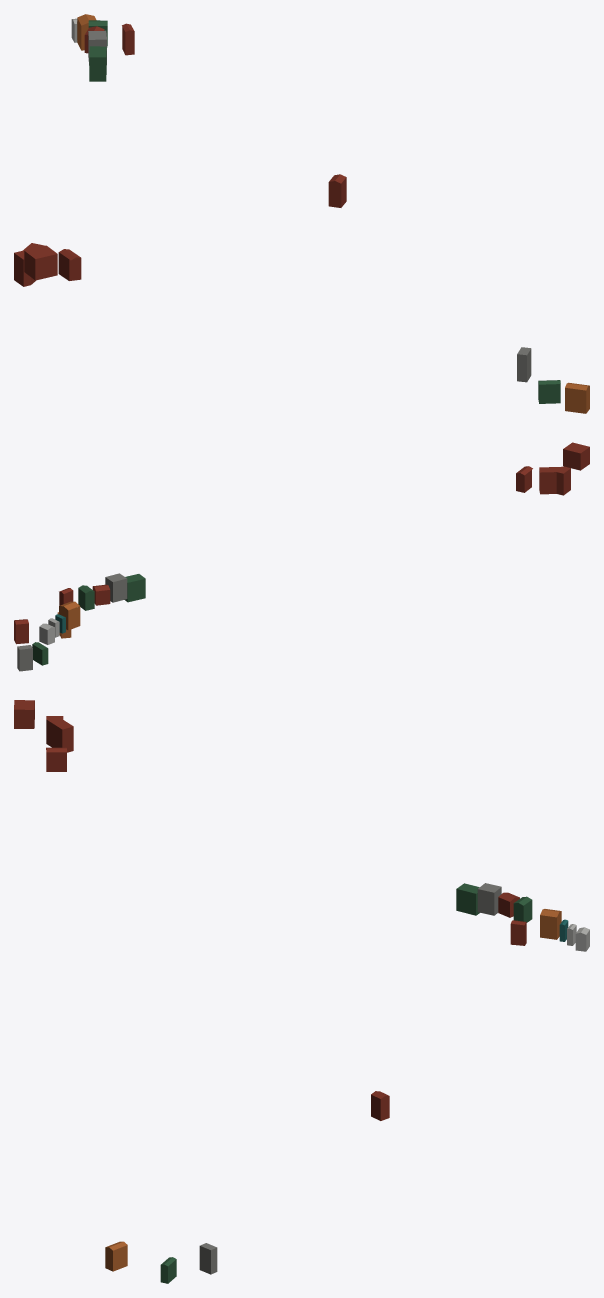
Rendered from near-15-27353-14859.137b7ea1.glb.
3 views of the same model, one above another, from view 1: azimuth 30°, elevation 25°; view 2: azimuth 150°, elevation 25°; view 3: azimuth 270°, elevation 25° (orthographic). The views are drawn at different scales.
Bounding box in the file's own units: 592 × 326 × 538.
